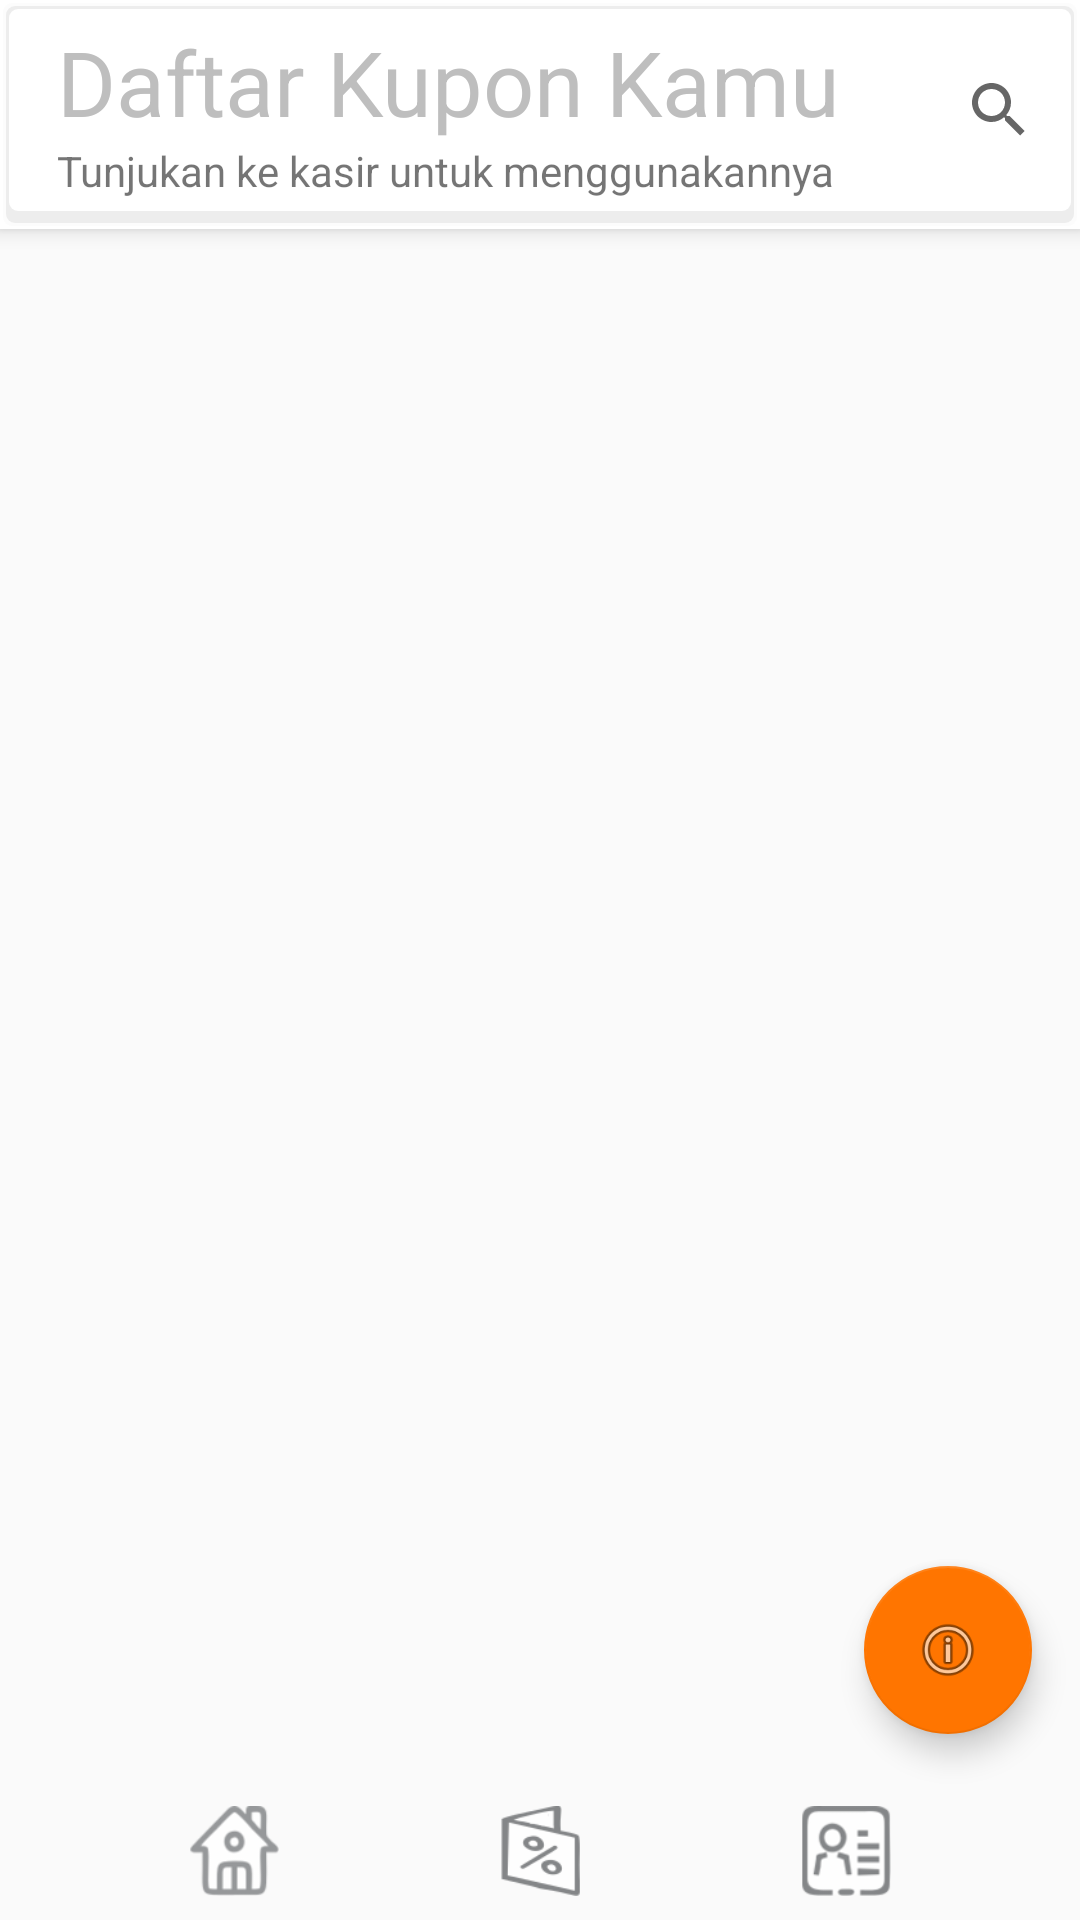

Icons on this 1080x1920 Android screen, each with the point to tap as (x=x, y=y):
info details: (x=948, y=1650)
newcoupon: (x=540, y=1851)
newhome: (x=234, y=1850)
newprofile: (x=846, y=1851)
